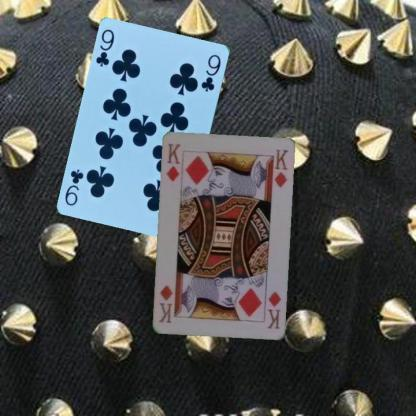9c: (93, 26, 116, 68)
Kd: (264, 288, 283, 330), (164, 141, 183, 183)
